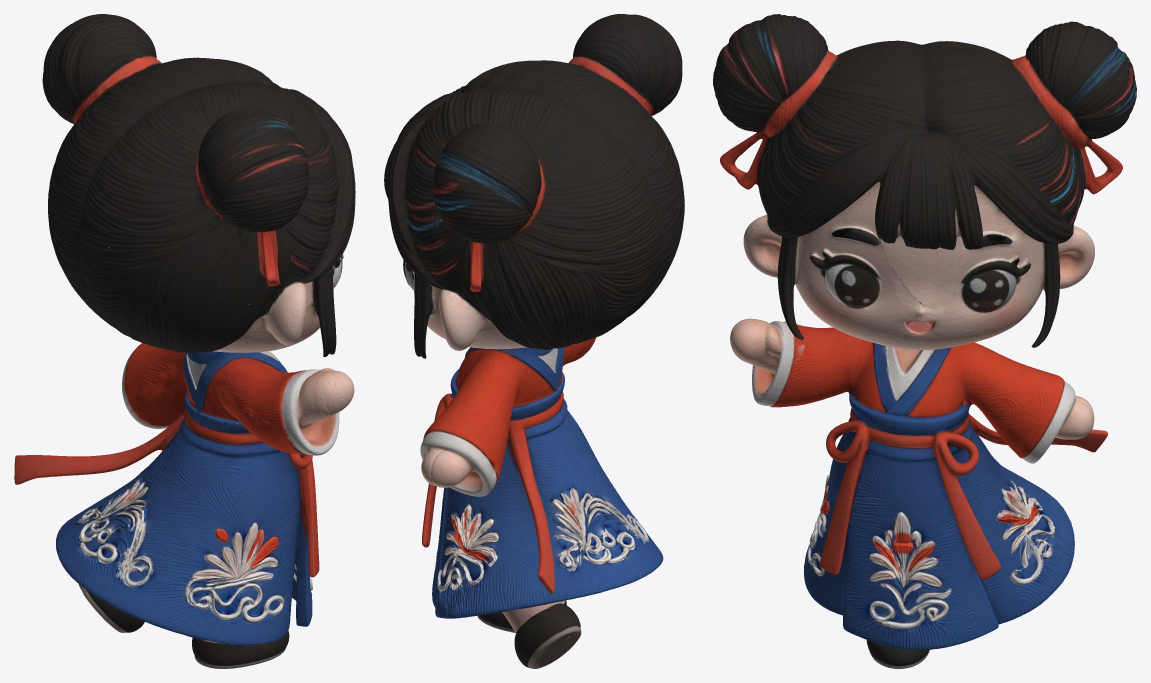
The picture shows the model from 3 angles, left to right: view 1: azimuth 30°, elevation 25°; view 2: azimuth 150°, elevation 25°; view 3: azimuth 270°, elevation 25°; orthographic projection. The views are drawn at different scales.
Parts seen in each view (by area): view 1: tripo_node_d5c2ae65-4c55-468e-800b-dc5561d1ee3d; view 2: tripo_node_d5c2ae65-4c55-468e-800b-dc5561d1ee3d; view 3: tripo_node_d5c2ae65-4c55-468e-800b-dc5561d1ee3d.
Part boxes in pixels (x1,y1,x2,y2): tripo_node_d5c2ae65-4c55-468e-800b-dc5561d1ee3d: (14,14,355,668); tripo_node_d5c2ae65-4c55-468e-800b-dc5561d1ee3d: (384,14,684,668); tripo_node_d5c2ae65-4c55-468e-800b-dc5561d1ee3d: (713,14,1136,668).
Bounding box in the file's own units: 0.4652 × 0.9999 × 0.6333.
1 material, 1 textured.
